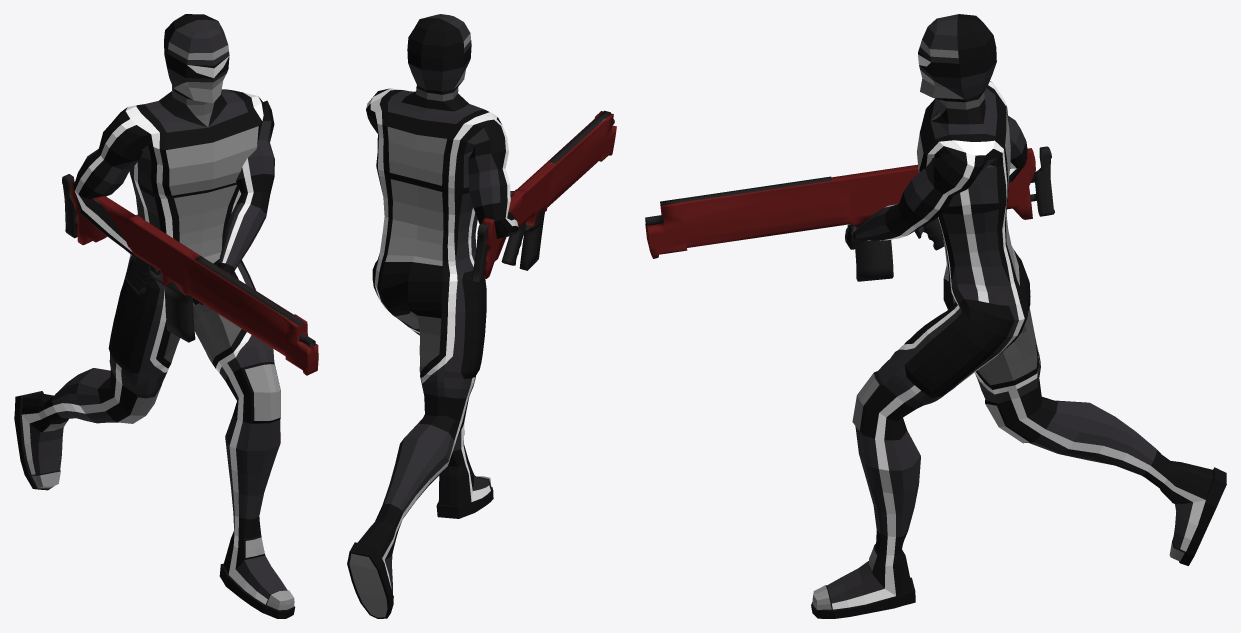
Rendered from ASR8.obj.
The picture shows the model from 3 angles, left to right: view 1: azimuth 30°, elevation 25°; view 2: azimuth 150°, elevation 25°; view 3: azimuth 270°, elevation 25°; orthographic projection. The views are drawn at different scales.
Visible parts, largest first — view 1: metarig_object_metarig_mesh, metarig_object.001_metarig_mesh.001; view 2: metarig_object_metarig_mesh, metarig_object.001_metarig_mesh.001; view 3: metarig_object_metarig_mesh, metarig_object.001_metarig_mesh.001.
Part boxes in pixels (box(x1,y1,x2,y2)): metarig_object_metarig_mesh: box(14, 14, 295, 618); metarig_object.001_metarig_mesh.001: box(62, 174, 318, 375); metarig_object_metarig_mesh: box(347, 14, 518, 618); metarig_object.001_metarig_mesh.001: box(471, 110, 616, 284); metarig_object_metarig_mesh: box(811, 14, 1226, 618); metarig_object.001_metarig_mesh.001: box(645, 146, 1054, 281).
Size of the model in its own units: 0.5655 by 1.78 by 1.61.
2 materials, 2 textured.
